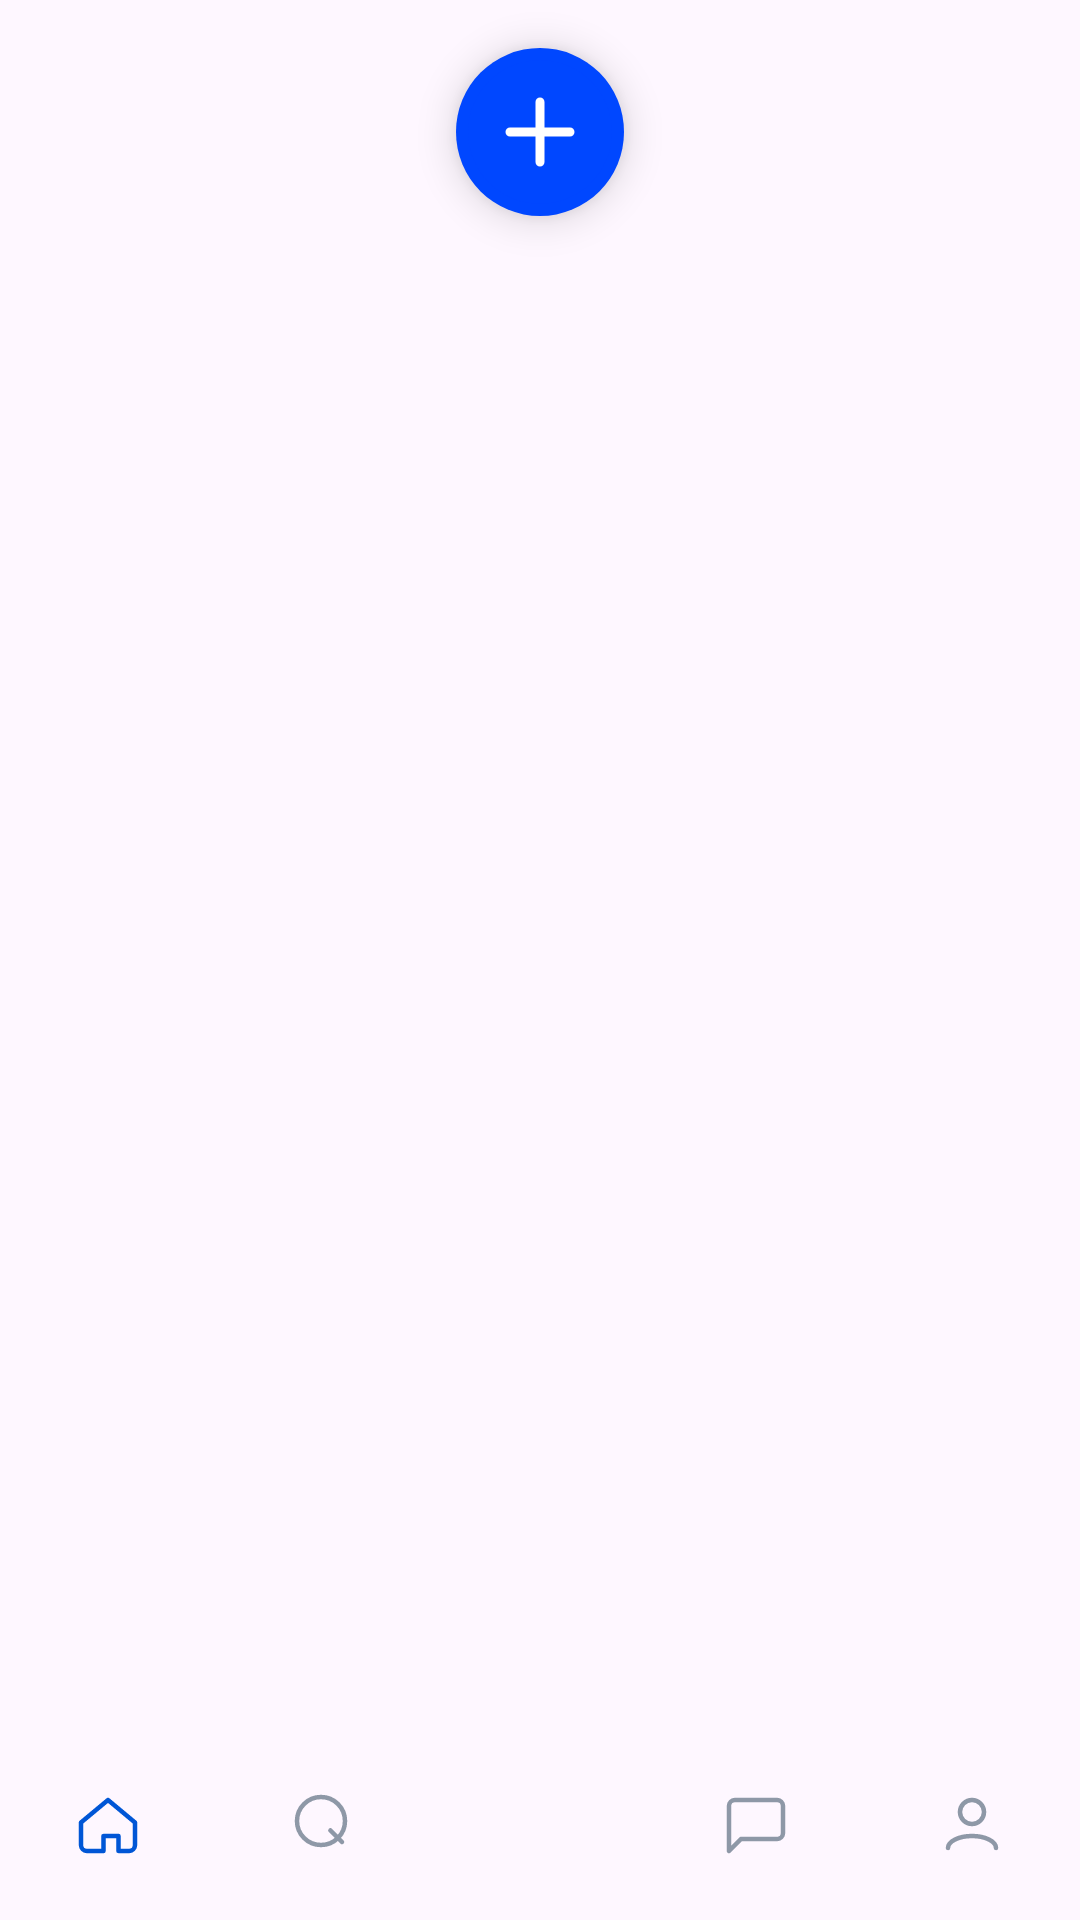

Screen size 1080 x 1920. Icon name, then its center in pixels as point (x, y):
Add: point (540, 132)
Home: point (108, 1825)
Message: point (756, 1825)
Profile: point (972, 1823)
Search: point (321, 1821)
